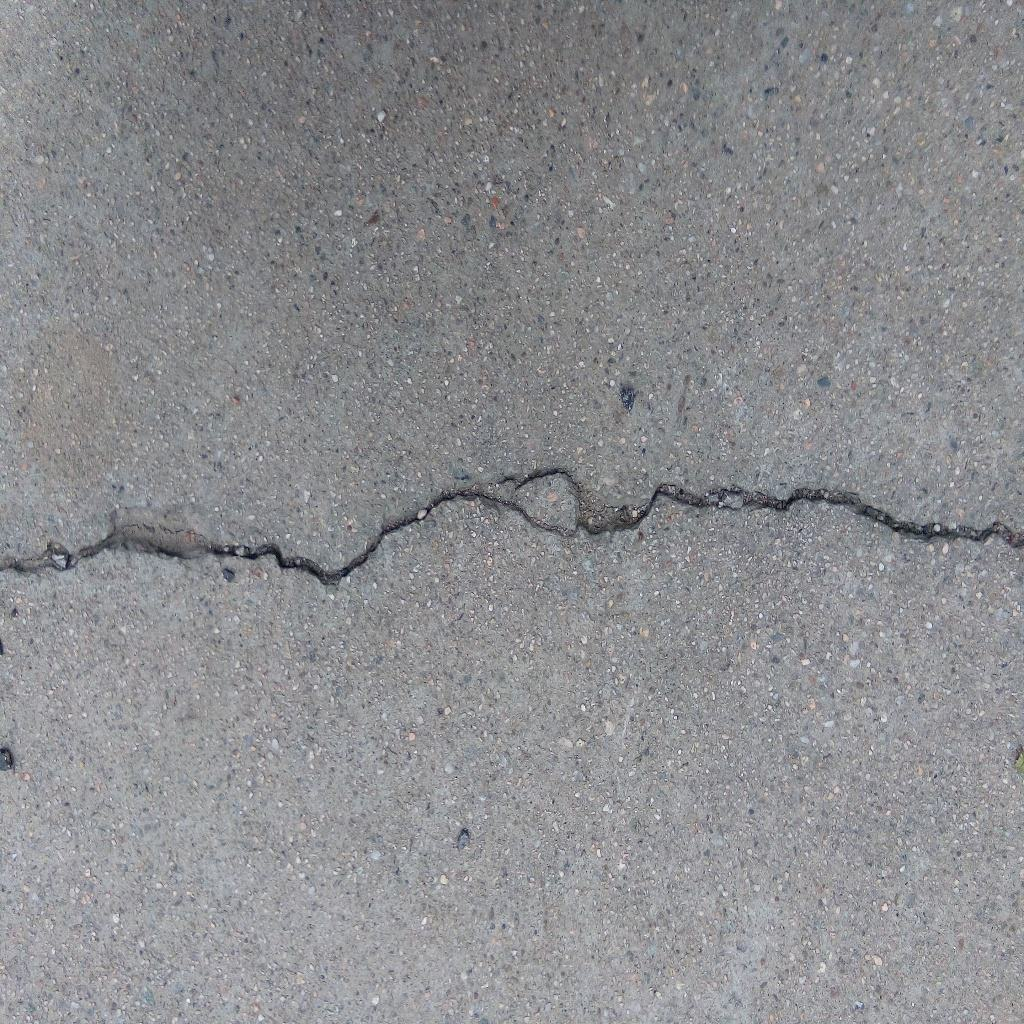Crack: (1, 464, 1024, 587)
